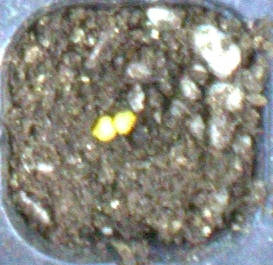pepper seed: (44, 42, 182, 177), (31, 45, 148, 187)
